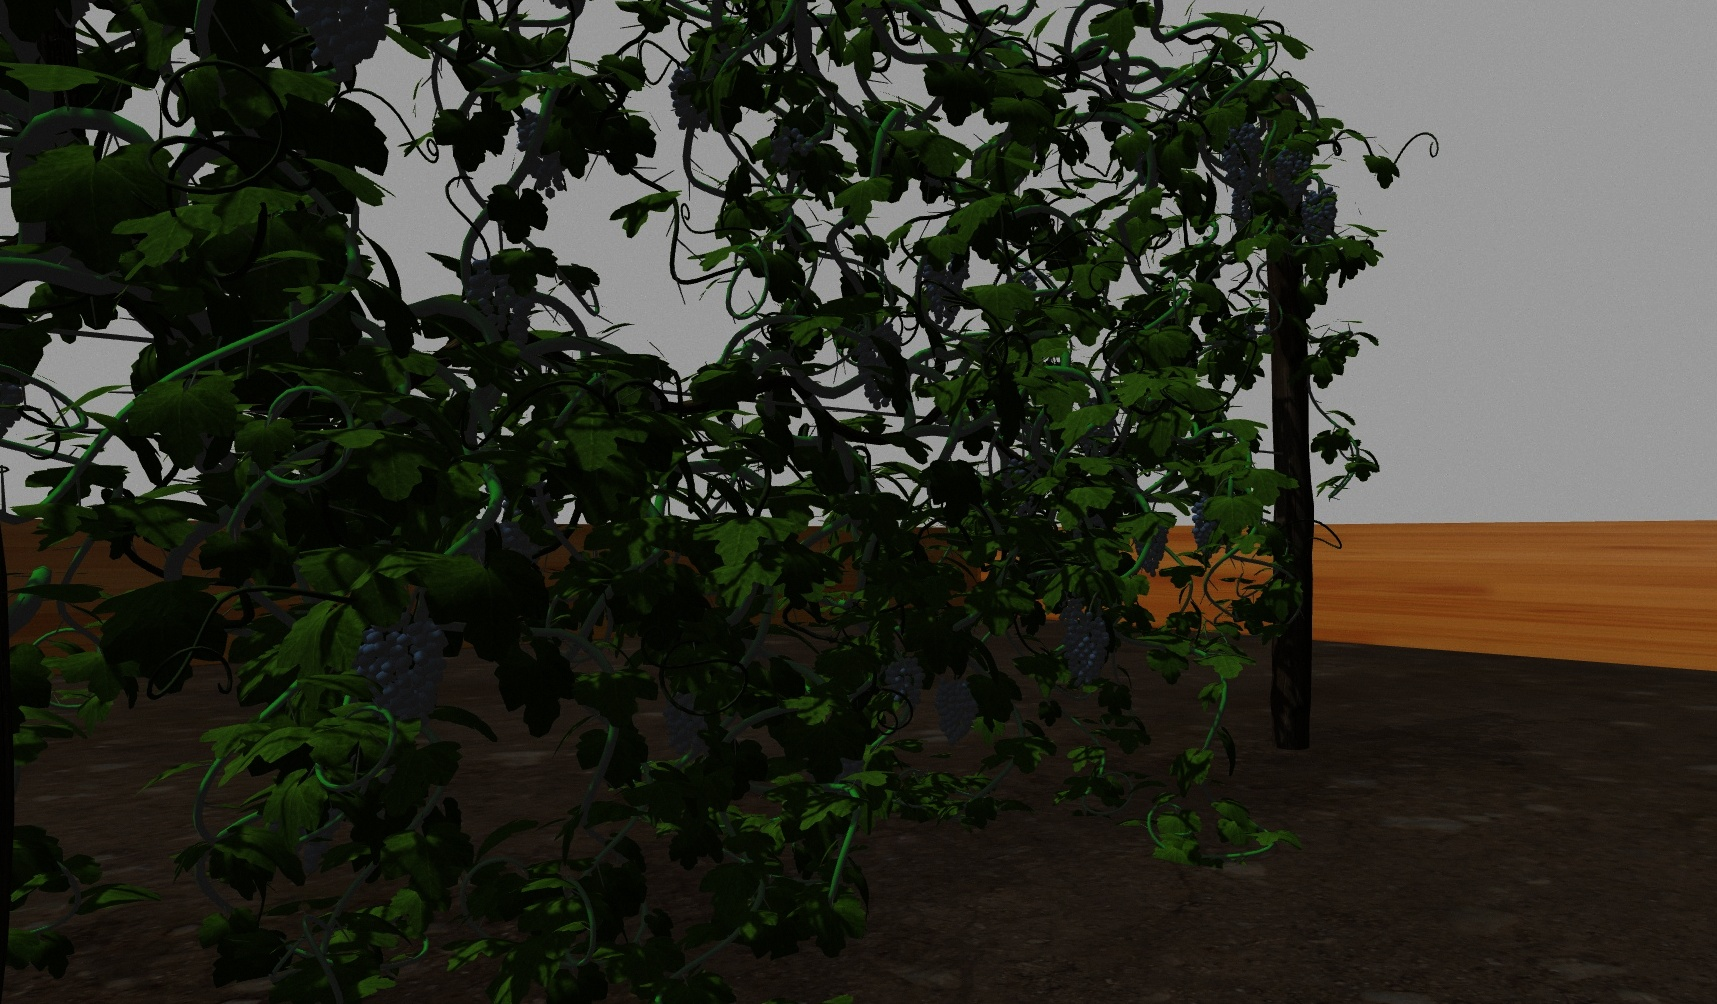grape: (355, 612, 449, 722), (292, 4, 391, 80), (468, 257, 539, 345), (1059, 596, 1109, 687), (851, 326, 902, 410), (919, 255, 969, 327), (661, 694, 716, 753), (934, 675, 979, 743), (1273, 143, 1313, 212), (1224, 122, 1264, 190), (883, 653, 926, 708), (1134, 518, 1170, 577), (1301, 186, 1337, 243), (769, 125, 814, 169), (1189, 498, 1221, 557), (1230, 190, 1252, 233)
